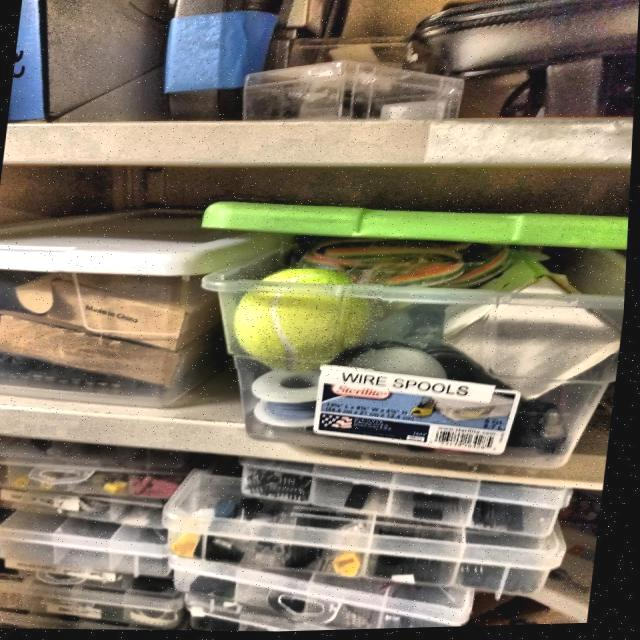tennis-ball: (232, 267, 390, 377)
